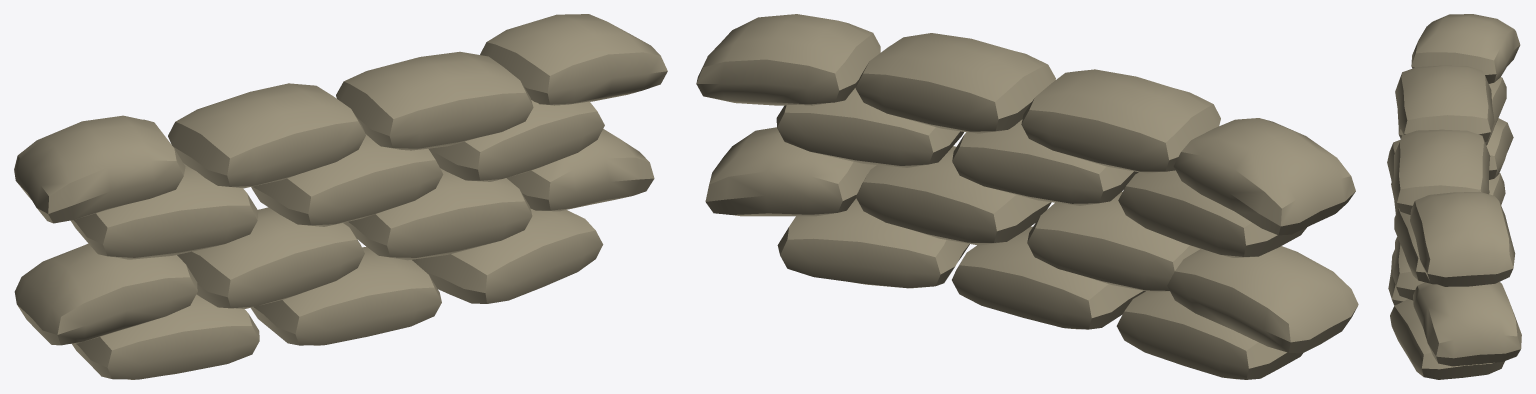
Rendered from tactical-sandbags.glb.
The picture shows the model from 3 angles, left to right: view 1: azimuth 30°, elevation 25°; view 2: azimuth 150°, elevation 25°; view 3: azimuth 270°, elevation 25°; orthographic projection. The views are drawn at different scales.
Parts seen in each view (by area): view 1: SackTrench.001; view 2: SackTrench.001; view 3: SackTrench.001.
Boxes of the visible parts, bbox=[...] form: SackTrench.001: bbox=[14, 14, 667, 379]; SackTrench.001: bbox=[696, 14, 1358, 379]; SackTrench.001: bbox=[1387, 14, 1521, 379].
Size of the model in its own units: 3.14 by 1.19 by 0.7543.
